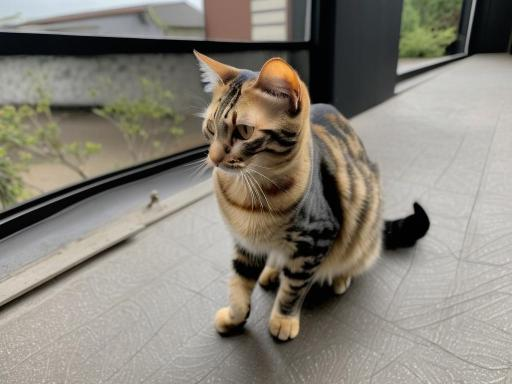cat_sitting: (194, 50, 430, 340)
